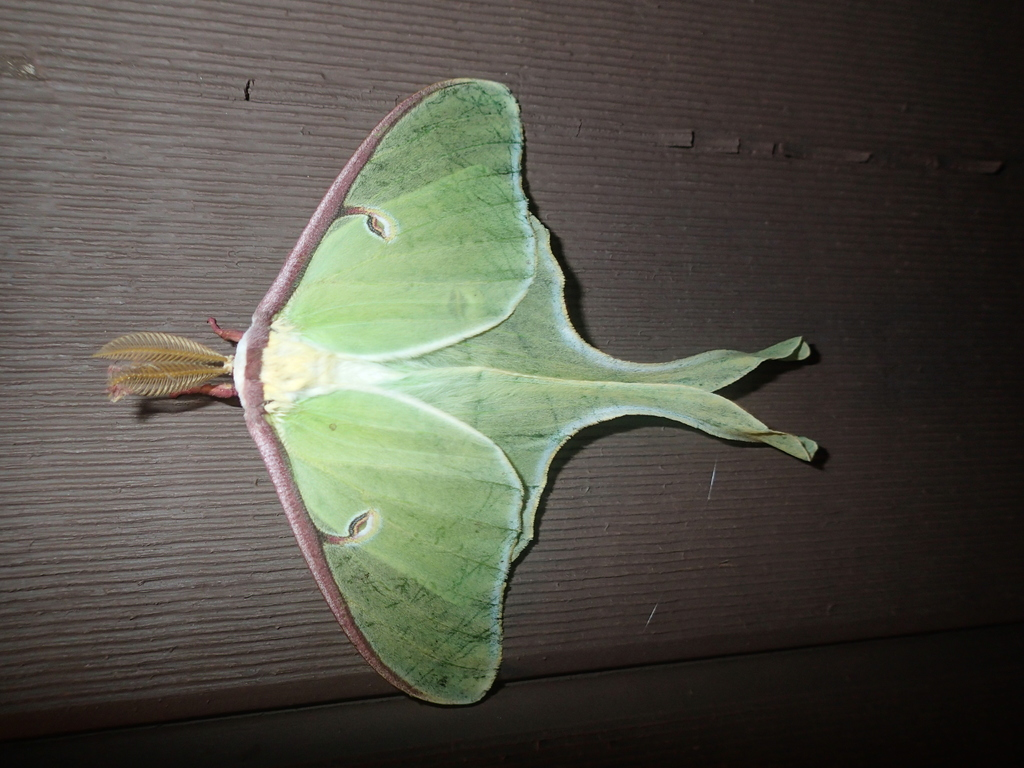Butterfly: (106, 49, 862, 741)
